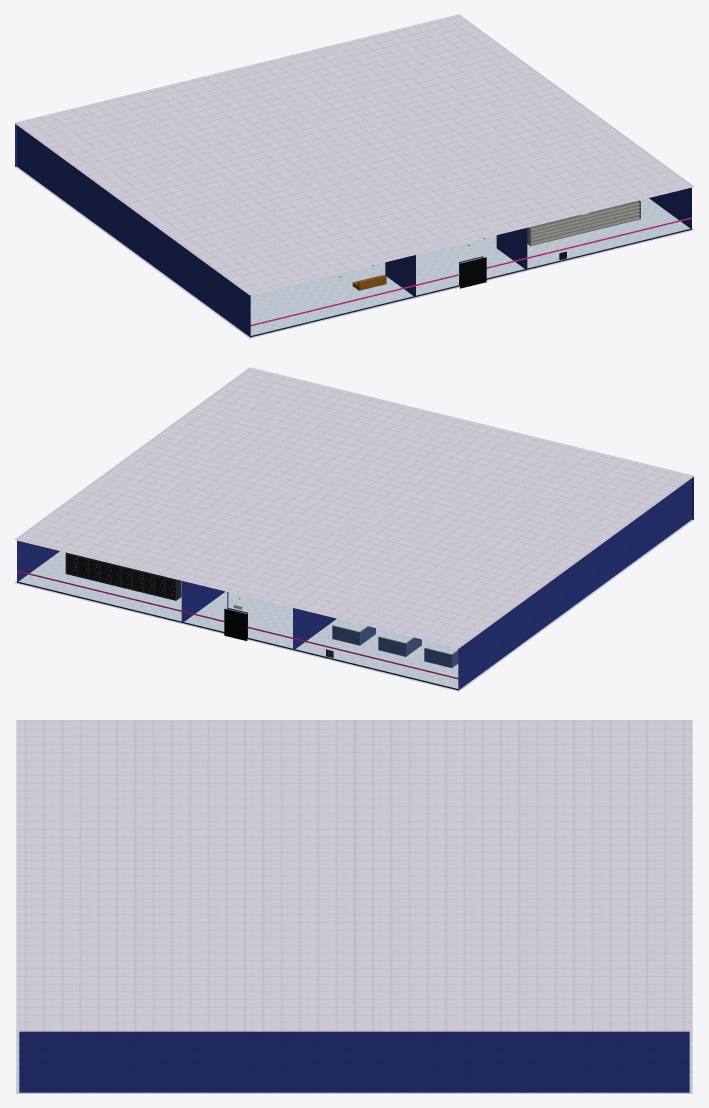
The model's file is rdwe_finale.glb.
3 views of the same model, one above another, from view 1: azimuth 30°, elevation 25°; view 2: azimuth 150°, elevation 25°; view 3: azimuth 270°, elevation 25° (orthographic). The views are drawn at different scales.
Visible parts, largest first — view 1: Acoustic_Finale.001, Vinyl_Finale.001, Wall_Navy.001, Gondola, Stripe_Pink, Kick_Finale, Void.001; view 2: Acoustic_Finale.001, Wall_Navy.001, Vinyl_Finale.001, Rack_Grille, Cubicle_Panel, Rack_Body, Stripe_Pink, Kick_Finale, Void.001; view 3: Acoustic_Finale.001, Wall_Navy.001, Vinyl_Finale.001.
Boxes of the visible parts, x1=… form: Acoustic_Finale.001: x1=14, y1=14, x2=694, y2=295; Vinyl_Finale.001: x1=14, y1=166, x2=694, y2=338; Wall_Navy.001: x1=15, y1=124, x2=691, y2=337; Gondola: x1=527, y1=200, x2=640, y2=246; Stripe_Pink: x1=250, y1=217, x2=691, y2=326; Kick_Finale: x1=250, y1=228, x2=691, y2=337; Void.001: x1=460, y1=257, x2=486, y2=288; Acoustic_Finale.001: x1=14, y1=367, x2=694, y2=648; Wall_Navy.001: x1=17, y1=477, x2=693, y2=690; Vinyl_Finale.001: x1=14, y1=519, x2=694, y2=691; Rack_Grille: x1=67, y1=554, x2=175, y2=598; Cubicle_Panel: x1=332, y1=626, x2=458, y2=667; Rack_Body: x1=65, y1=552, x2=181, y2=600; Stripe_Pink: x1=17, y1=570, x2=458, y2=679; Kick_Finale: x1=17, y1=581, x2=458, y2=690; Void.001: x1=224, y1=609, x2=247, y2=640; Acoustic_Finale.001: x1=16, y1=720, x2=692, y2=1031; Wall_Navy.001: x1=19, y1=1031, x2=689, y2=1092; Vinyl_Finale.001: x1=16, y1=1031, x2=692, y2=1093.
Bounding box in the file's own units: 48.4 × 4.55 × 44.7.
35 materials, 19 textured.
